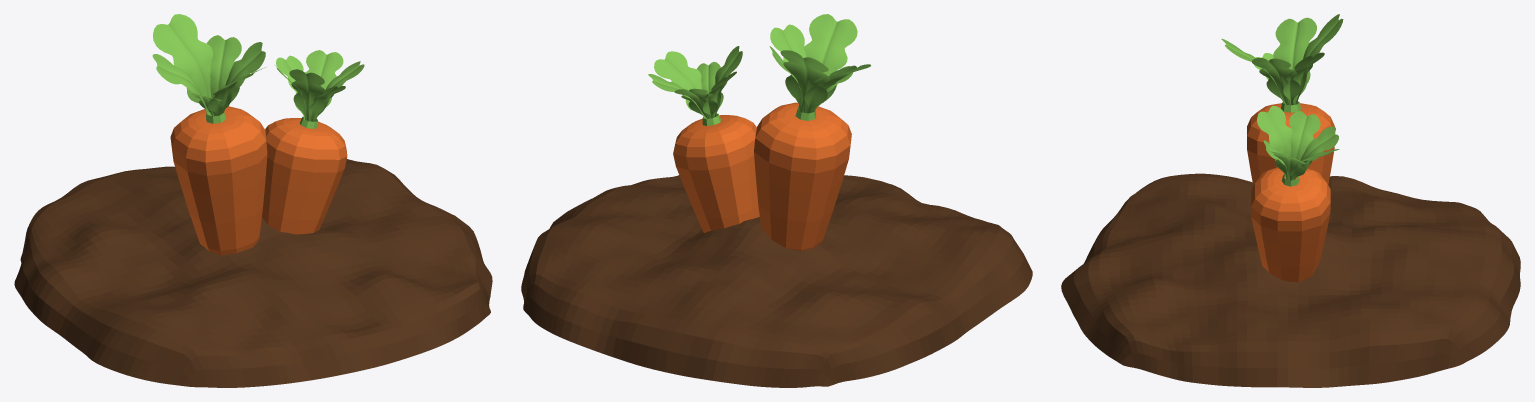
Rendered from Carrot_L.fbx.
3 views of the same model, side by side, from view 1: azimuth 30°, elevation 25°; view 2: azimuth 150°, elevation 25°; view 3: azimuth 270°, elevation 25° (orthographic). The views are drawn at different scales.
Visible parts, largest first — view 1: Cylinder; view 2: Cylinder; view 3: Cylinder.
Boxes of the visible parts, x1,y1,x2,y2 form: Cylinder: (14,14,492,387); Cylinder: (521,14,1032,387); Cylinder: (1061,14,1520,387).
Size of the model in its own units: 128 by 77.56 by 127.
